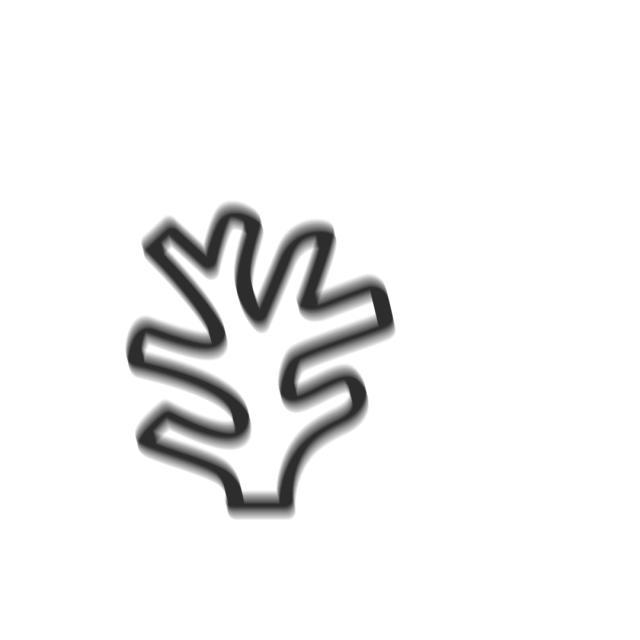coral: (121, 195, 408, 525)
